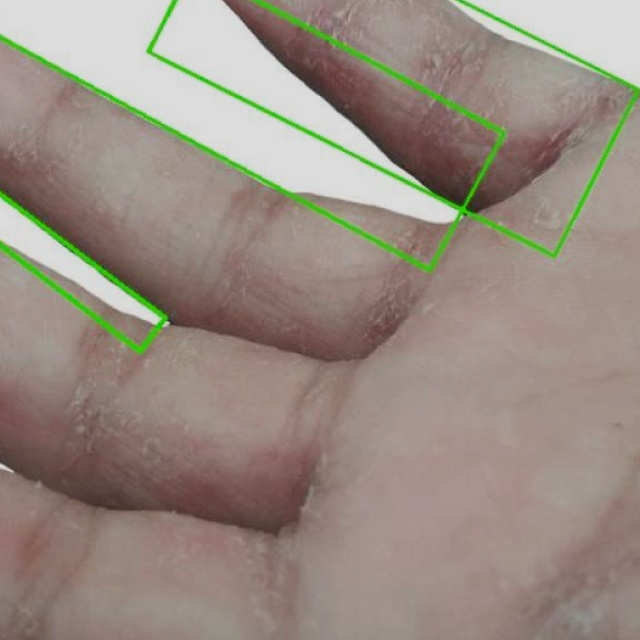Scabies: (0, 0, 503, 270), (148, 0, 638, 256), (0, 196, 164, 351)
